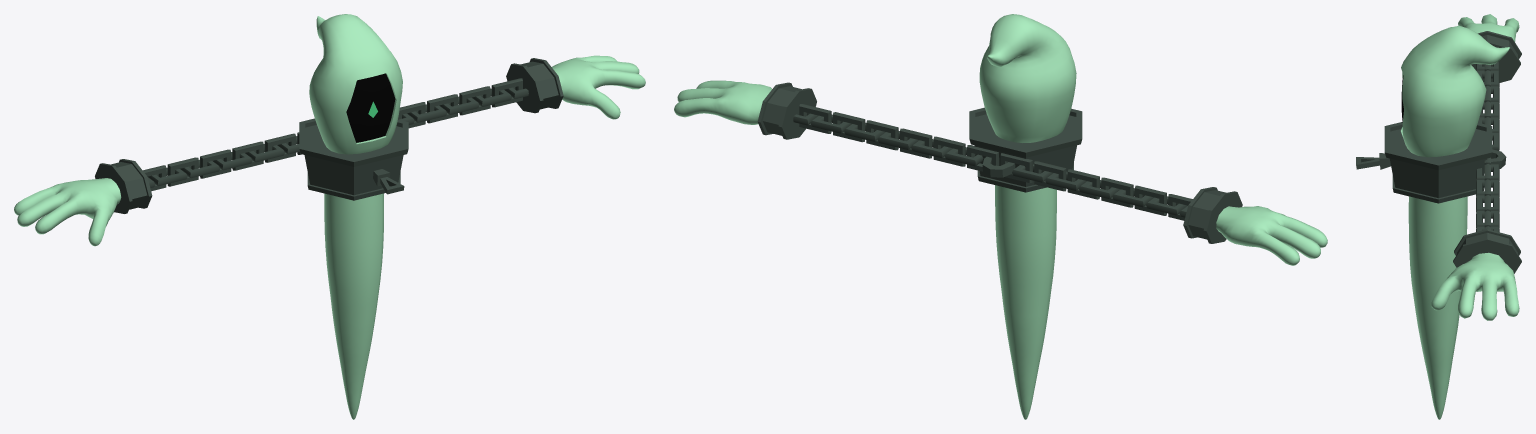
File: Chains_Ghost_V2.fbx
3 renders of one model, left to right at view 1: azimuth 30°, elevation 25°; view 2: azimuth 150°, elevation 25°; view 3: azimuth 270°, elevation 25°, orthographic. The views are drawn at different scales.
Visible parts, largest first — view 1: Ghost_Body_Mesh, Ghost_Head_Mesh, Metal_Necklace, Ghost_R_Hand, Chains_R, Ghost_L_Hand, Chains_L, Ghost_Eye, Shackles_L, Shackles_R; view 2: Ghost_Head_Mesh, Ghost_Body_Mesh, Chains_L, Chains_R, Metal_Necklace, Ghost_R_Hand, Ghost_L_Hand, Shackles_L, Shackles_R; view 3: Ghost_Head_Mesh, Ghost_Body_Mesh, Metal_Necklace, Ghost_L_Hand, Shackles_L, Chains_L, Chains_R, Shackles_R, Ghost_R_Hand.
Part boxes in pixels (x1,y1,x2,y2): Ghost_Body_Mesh: (324, 193, 383, 419); Ghost_Head_Mesh: (309, 14, 402, 154); Metal_Necklace: (299, 118, 408, 200); Ghost_R_Hand: (14, 178, 121, 246); Chains_R: (143, 132, 301, 191); Ghost_L_Hand: (552, 55, 645, 119); Chains_L: (398, 78, 528, 128); Ghost_Eye: (346, 73, 395, 142); Shackles_L: (506, 58, 563, 113); Shackles_R: (95, 159, 152, 213); Ghost_Head_Mesh: (979, 14, 1076, 142); Ghost_Body_Mesh: (995, 185, 1056, 419); Chains_L: (793, 104, 999, 171); Chains_R: (1000, 153, 1192, 220); Metal_Necklace: (969, 107, 1082, 192); Ghost_R_Hand: (1216, 206, 1327, 265); Ghost_L_Hand: (674, 80, 771, 124); Shackles_L: (757, 82, 816, 139); Shackles_R: (1183, 187, 1242, 243); Ghost_Head_Mesh: (1401, 25, 1509, 157); Ghost_Body_Mesh: (1408, 196, 1467, 419); Metal_Necklace: (1356, 122, 1506, 203); Ghost_L_Hand: (1431, 252, 1519, 320); Shackles_L: (1453, 229, 1521, 273); Chains_L: (1476, 157, 1499, 232); Chains_R: (1476, 62, 1499, 150); Shackles_R: (1471, 31, 1521, 82); Ghost_R_Hand: (1458, 14, 1519, 41).
Size of the model in its own units: 544 by 333 by 128.
